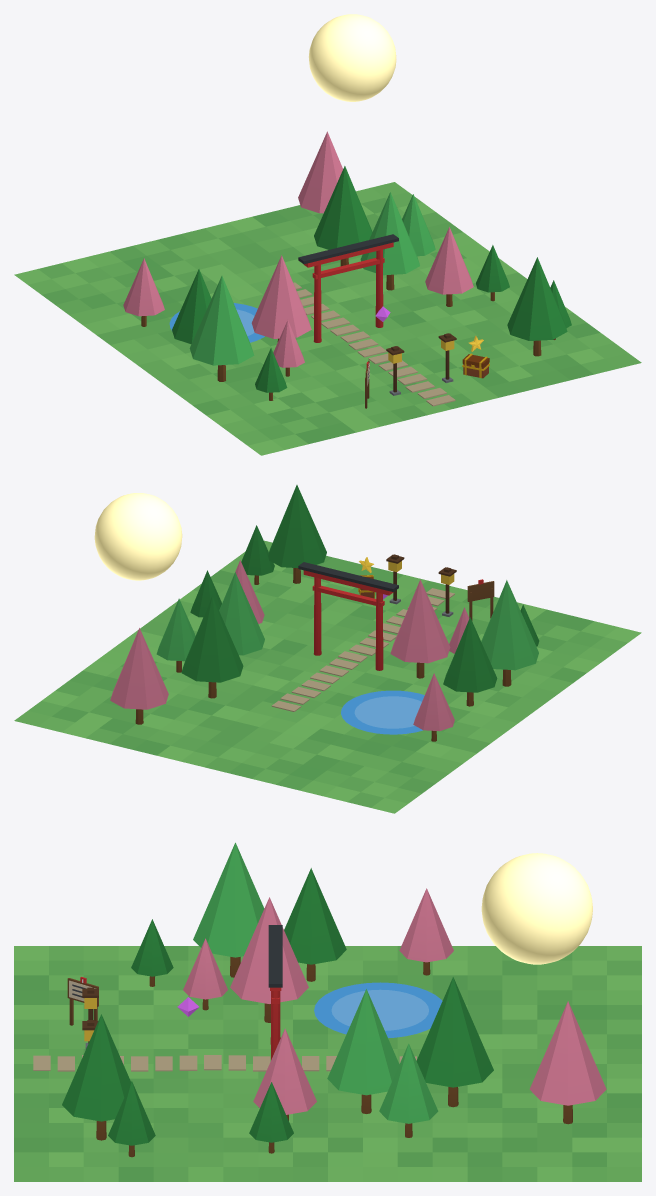
Rendered from sample-tap-scene.glb.
3 renders of one model, top to bottom at view 1: azimuth 30°, elevation 25°; view 2: azimuth 150°, elevation 25°; view 3: azimuth 270°, elevation 25°, orthographic. The views are drawn at different scales.
Parts seen in each view (by area): view 1: World, Moon; view 2: World, Moon, Signboard; view 3: World, Moon, Signboard.
Boxes of the visible parts, x1,y1,x2,y2 form: World: [14, 131, 641, 455]; Moon: [308, 14, 396, 101]; World: [14, 485, 641, 813]; Moon: [94, 493, 182, 580]; Signboard: [467, 579, 494, 620]; World: [14, 842, 641, 1181]; Moon: [481, 853, 592, 964]; Signboard: [67, 977, 98, 1025].
Bounding box in the file's own units: 16 × 8.6 × 18.
